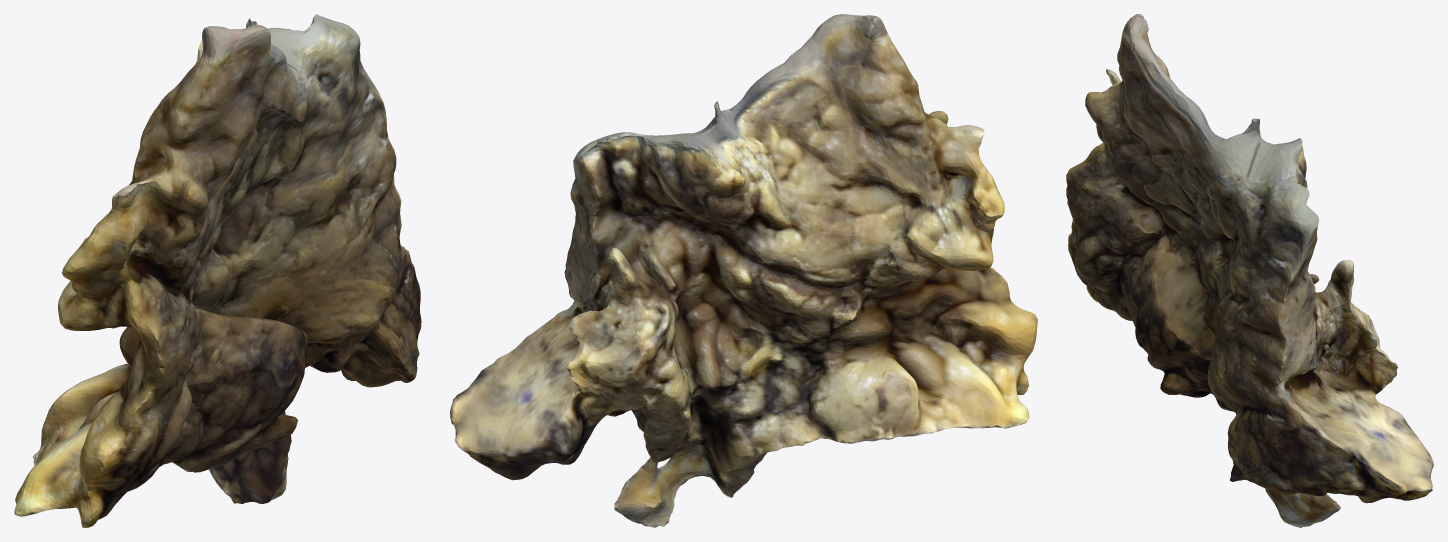
File: Vesicula biliar.glb
3 renders of one model, left to right at view 1: azimuth 30°, elevation 25°; view 2: azimuth 150°, elevation 25°; view 3: azimuth 270°, elevation 25°, orthographic. The views are drawn at different scales.
Bounding box in the file's own units: 0.1059 × 0.1093 × 0.0806.
1 material, 1 textured.
